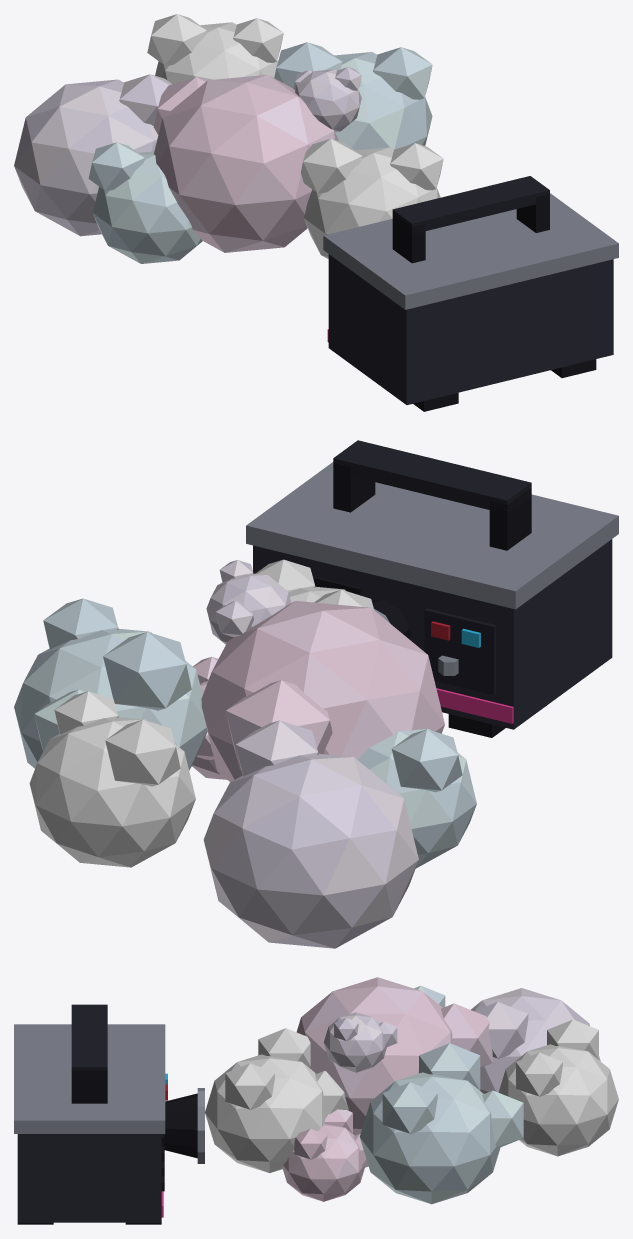
File: Decor_DJStage_FogMachine.fbx
3 renders of one model, top to bottom at view 1: azimuth 30°, elevation 25°; view 2: azimuth 150°, elevation 25°; view 3: azimuth 270°, elevation 25°, orthographic. The views are drawn at different scales.
Visible parts, largest first — view 1: FogMachine_Body; view 2: FogMachine_Body; view 3: FogMachine_Body.
Boxes of the visible parts, bbox=[...] form: FogMachine_Body: bbox=[14, 14, 618, 411]; FogMachine_Body: bbox=[14, 440, 618, 948]; FogMachine_Body: bbox=[14, 977, 618, 1224].
Size of the model in its own units: 10.2 by 5.5 by 16.8.
